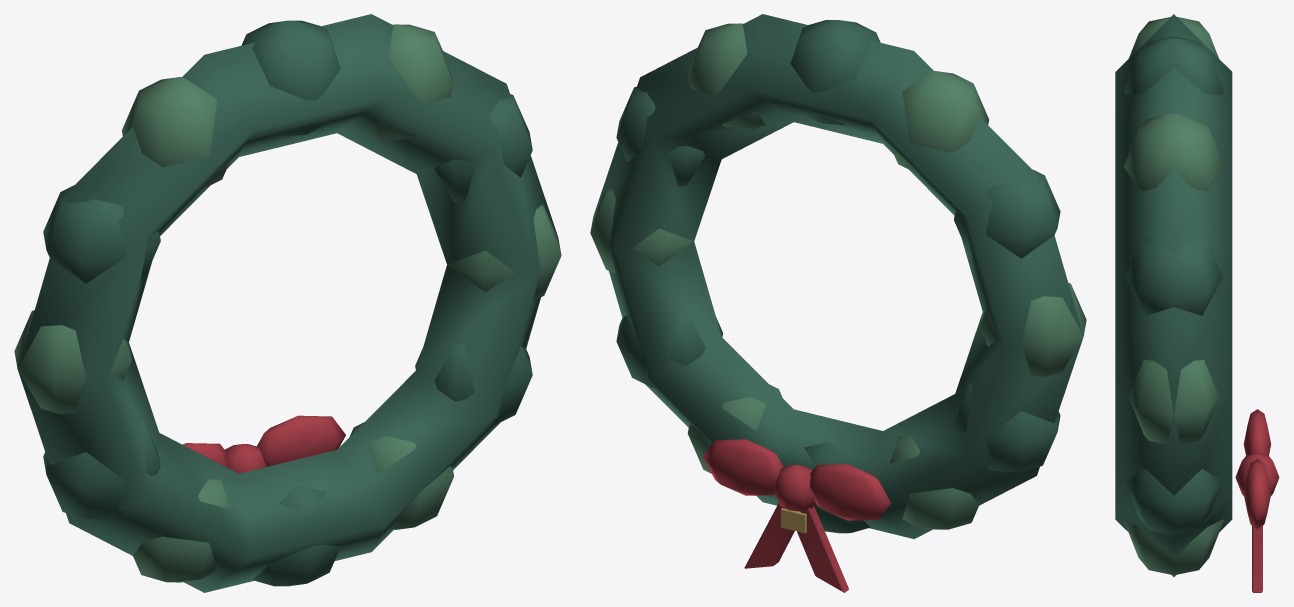
File: wreath_low.glb
3 views of the same model, side by side, from view 1: azimuth 30°, elevation 25°; view 2: azimuth 150°, elevation 25°; view 3: azimuth 270°, elevation 25° (orthographic). The views are drawn at different scales.
Size of the model in its own units: 0.68 by 0.7005 by 0.1964.
